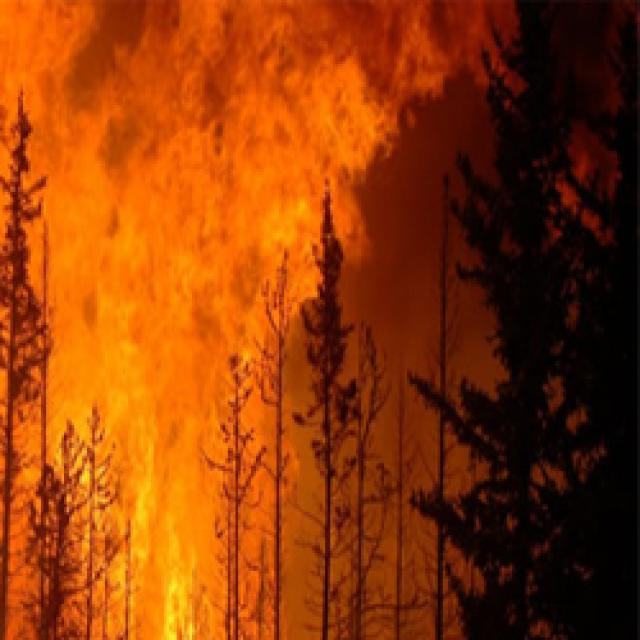Fire: (0, 0, 332, 640), (0, 0, 579, 270)
Smoke: (0, 0, 549, 228)
